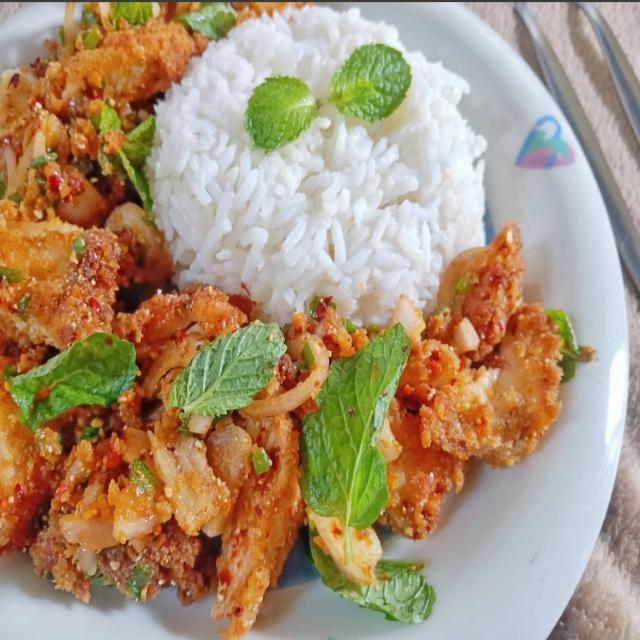carb: (154, 23, 486, 314)
meat: (10, 337, 510, 558), (0, 65, 154, 329)
spicy chicken rice salad: (3, 0, 566, 609)
vegetable: (324, 349, 391, 540), (18, 354, 138, 407), (195, 323, 265, 413)
